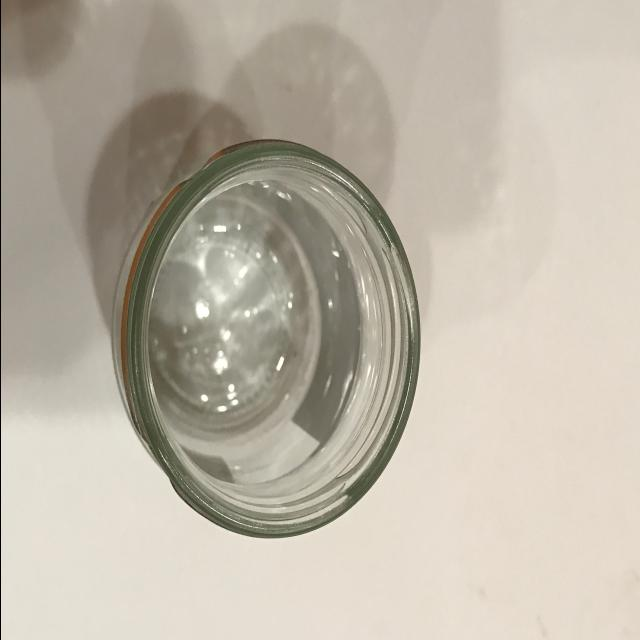glass: (124, 125, 426, 543)
